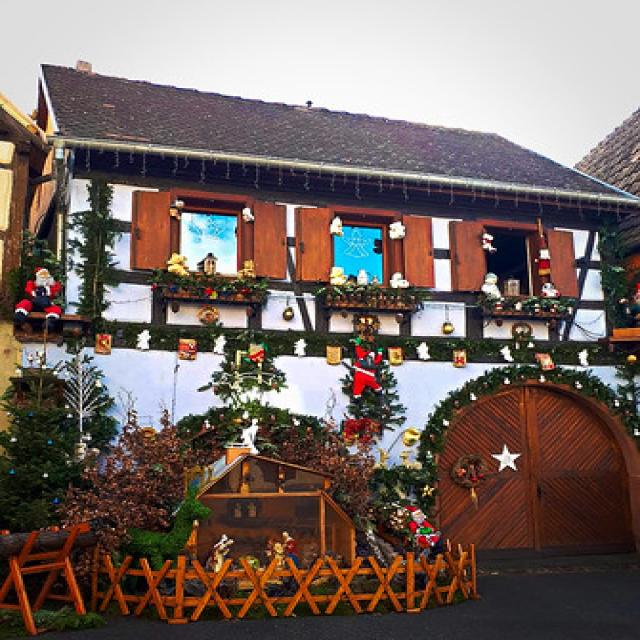building: (28, 56, 640, 618)
